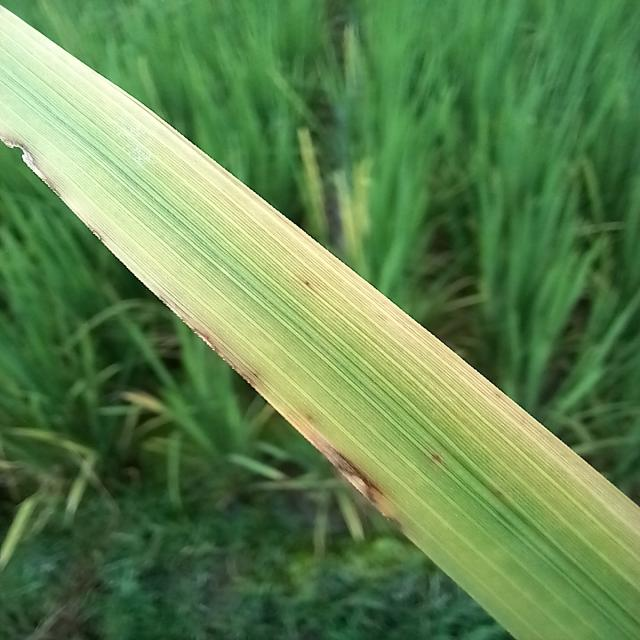Leaf_Blast: (183, 323, 255, 388), (324, 441, 383, 511)
